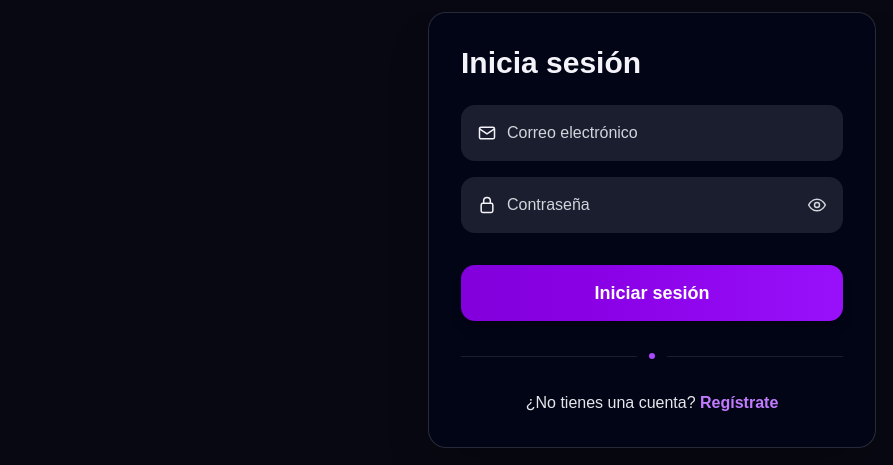
Test: LoginForm › should navigate to the register page
What coordinates should you click on to do the following:
click the link "Regístrate"
I would click on:
 (739, 402)
Its box is [700, 394, 778, 411].
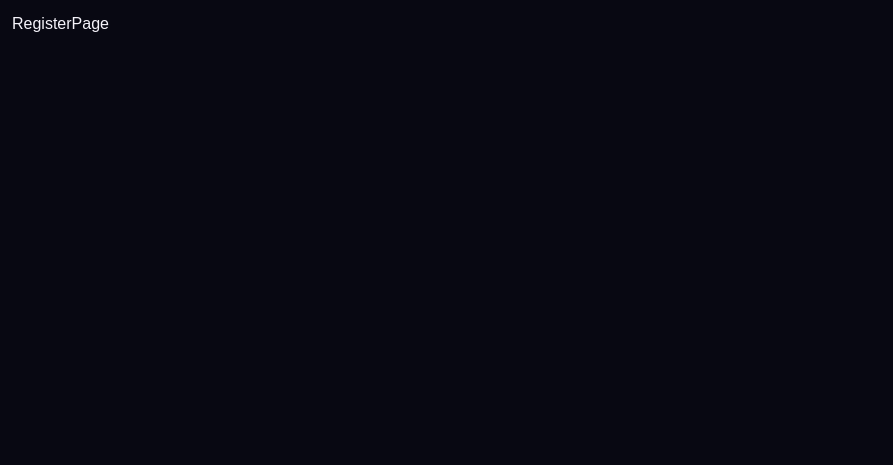
Check: the heading "RegisterPage" is shown, box [12, 15, 109, 32]
